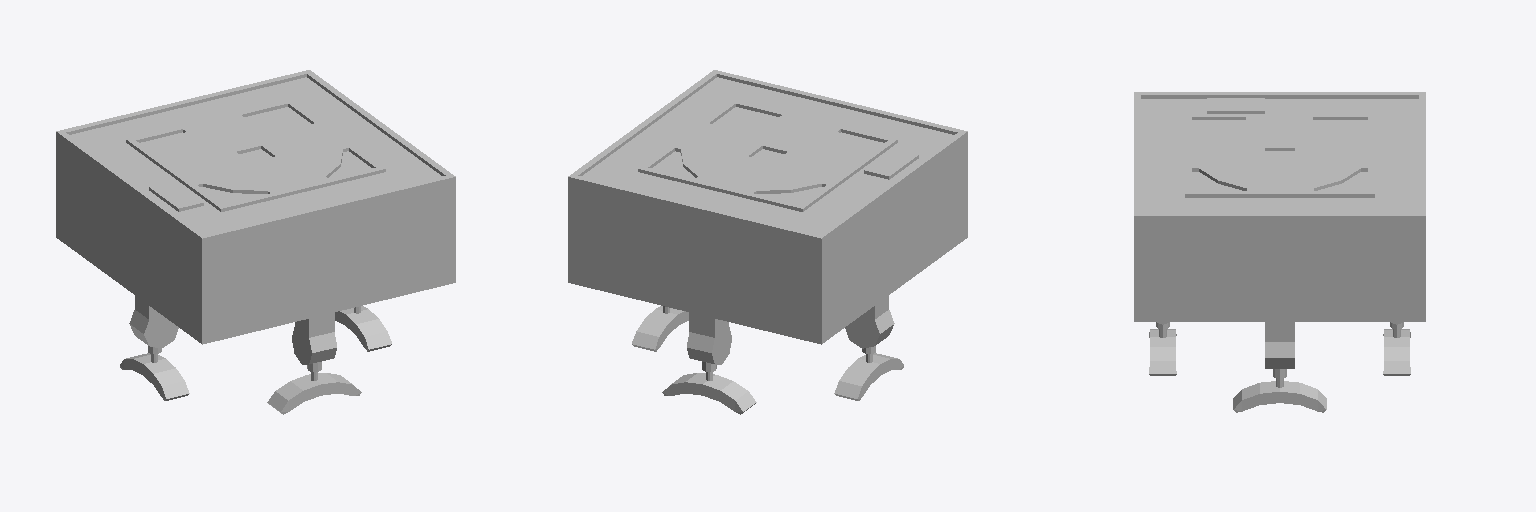
Rendered from docking_port.obj.
3 renders of one model, left to right at view 1: azimuth 30°, elevation 25°; view 2: azimuth 150°, elevation 25°; view 3: azimuth 270°, elevation 25°, orthographic.
Parts seen in each view (by area): view 1: Port, ArmZN, ArmXN, ArmXP; view 2: Port, ArmZP, ArmXN, ArmXP; view 3: Port, ArmXP, ArmZN, ArmZP.
Boxes of the visible parts, box(x1,y1,x2,y2) form: Port: box(56, 70, 455, 364); ArmZN: box(267, 362, 361, 414); ArmXN: box(120, 346, 189, 400); ArmXP: box(335, 306, 391, 351); Port: box(568, 70, 967, 364); ArmZP: box(662, 362, 756, 414); ArmXN: box(834, 346, 903, 400); ArmXP: box(632, 306, 688, 351); Port: box(1134, 92, 1425, 368); ArmXP: box(1233, 369, 1326, 412); ArmZN: box(1149, 322, 1176, 375); ArmZP: box(1383, 322, 1410, 375).
Bounding box in the file's own units: 5 × 3.84 × 5.